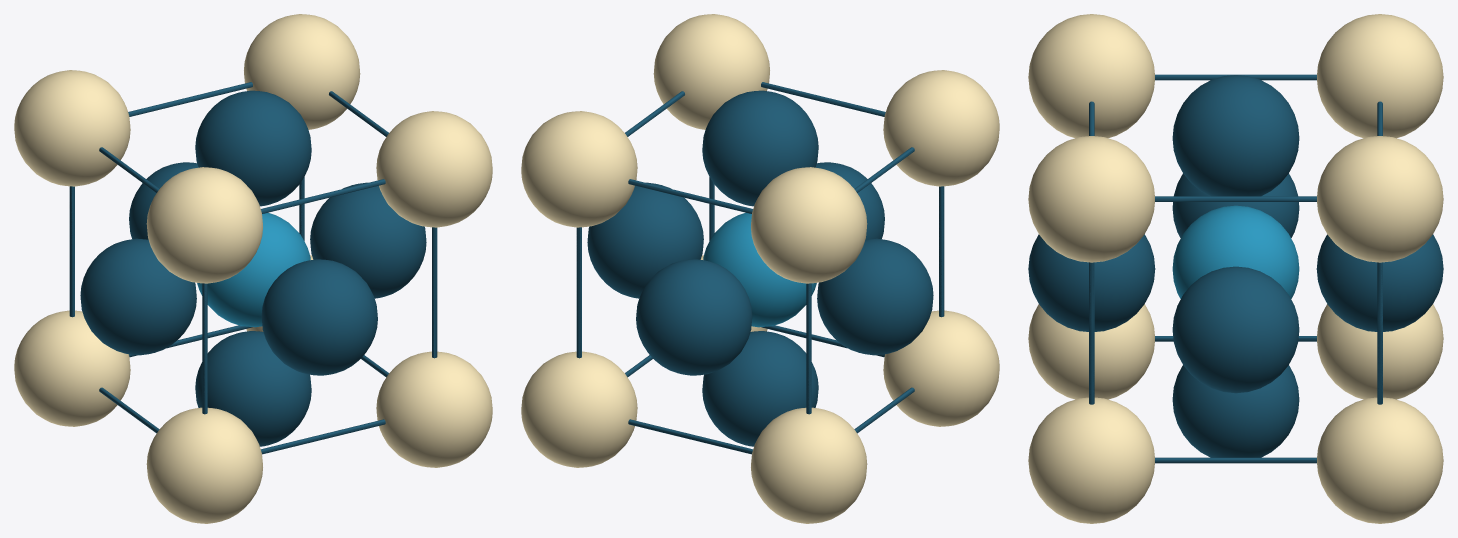
The model's file is jingbao2-C.gltf.
3 renders of one model, left to right at view 1: azimuth 30°, elevation 25°; view 2: azimuth 150°, elevation 25°; view 3: azimuth 270°, elevation 25°, orthographic. The views are drawn at different scales.
Parts seen in each view (by area): view 1: 2, 1, 3; view 2: 2, 1, 3; view 3: 2, 1, 3.
Part boxes in pixels (bbox=[...]): 2: bbox=[14, 14, 492, 523]; 1: bbox=[69, 82, 437, 454]; 3: bbox=[197, 213, 310, 327]; 2: bbox=[521, 14, 999, 523]; 1: bbox=[576, 82, 944, 454]; 3: bbox=[703, 213, 816, 327]; 2: bbox=[1028, 14, 1443, 523]; 1: bbox=[1028, 74, 1443, 463]; 3: bbox=[1172, 205, 1299, 298].
Size of the model in its own units: 72 by 72 by 72.
3 materials, 3 textured.
